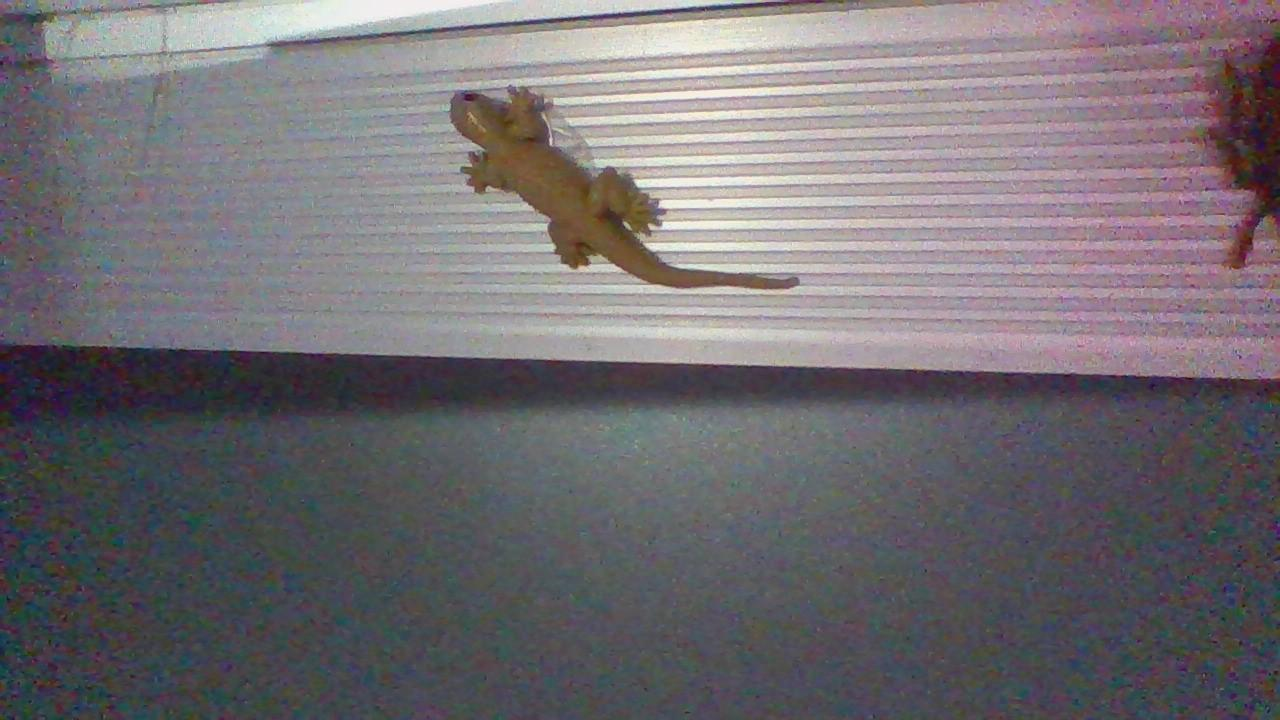cockroach: (1175, 27, 1280, 273)
lizard: (429, 70, 797, 296)
